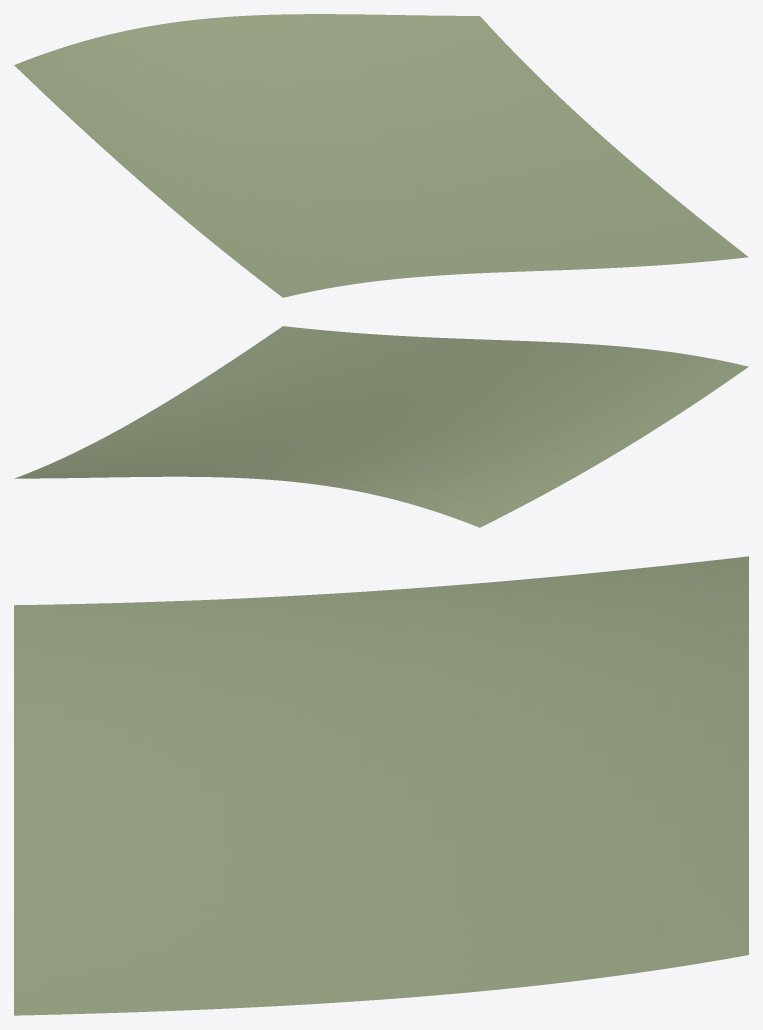
Rendered from expanse-22-24.glb.
The picture shows the model from 3 angles, top to bottom: view 1: azimuth 30°, elevation 25°; view 2: azimuth 150°, elevation 25°; view 3: azimuth 270°, elevation 25°; orthographic projection. The views are drawn at different scales.
Parts seen in each view (by area): view 1: expanse-22-24; view 2: expanse-22-24; view 3: expanse-22-24.
Boxes of the visible parts, left/top/right/bottom form: expanse-22-24: left=14, top=14, right=748, bottom=297; expanse-22-24: left=14, top=326, right=748, bottom=527; expanse-22-24: left=14, top=556, right=748, bottom=1015.
Size of the model in its own units: 256 by 61.01 by 256.
